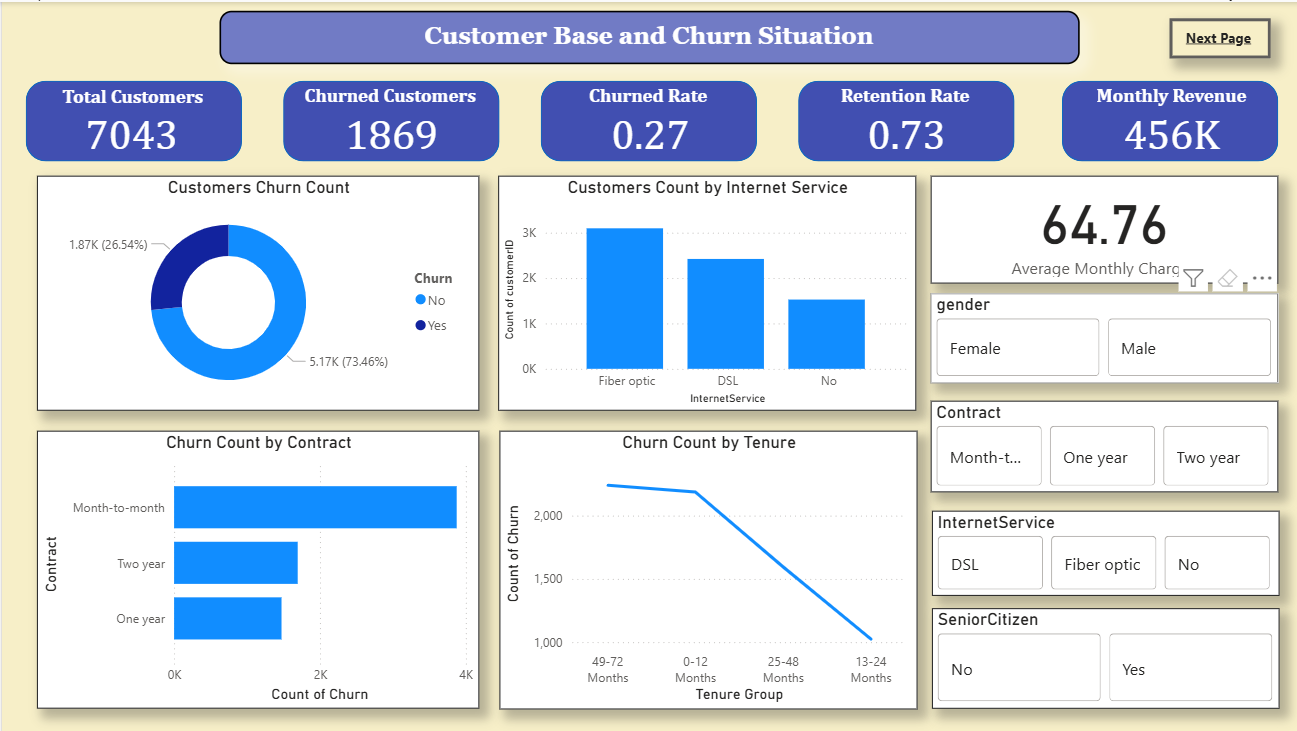

What the dashboard file says about the page in this screenshot:
{"tool":"powerbi","page":{"name":"Executive Overview","canvas":[1280,720],"ordinal":0},"visuals":[{"type":"textbox","box":[214.7,8.4,849.3,53.1],"z":0},{"type":"shape","box":[22.9,77.2,213.5,79.6],"z":1000},{"type":"shape","box":[532,77.2,213.5,79.6],"z":2000},{"type":"shape","box":[277.5,77.2,213.5,79.6],"z":3000},{"type":"shape","box":[786.6,77.2,213.5,79.6],"z":4000},{"type":"shape","box":[1047.2,77.2,213.5,79.6],"z":5000},{"type":"card","fields":{"Values":["Telco_Churn.Total Customers"]},"box":[42.2,101.3,172.5,55.5],"z":6000},{"type":"textbox","box":[33.8,77.2,191.8,31.4],"z":7000},{"type":"card","fields":{"Values":["Telco_Churn.Retention Rate"]},"box":[807.1,101.3,172.5,55.5],"z":8000},{"type":"card","fields":{"Values":["Telco_Churn.Churn Rate"]},"box":[553.8,101.3,172.5,55.5],"z":9000},{"type":"card","fields":{"Values":["Telco_Churn.Churned Customers"]},"box":[299.2,101.3,172.5,55.5],"z":10000},{"type":"card","fields":{"Values":["Telco_Churn.Monthly Revenue"]},"box":[1068.9,101.3,172.5,55.5],"z":11000},{"type":"textbox","box":[294.1,76.9,184.3,34.2],"z":12000},{"type":"textbox","box":[1063,76.9,184.3,34.2],"z":13000},{"type":"textbox","box":[800.6,76.9,184.3,34.2],"z":14000},{"type":"textbox","box":[548,76.9,184.3,34.2],"z":15000},{"type":"donutChart","title":"Customers Churn Count","fields":{"Y":["CountNonNull(Telco_Churn.Churn)"],"Category":["Telco_Churn.Churn"]},"box":[34.2,172.1,436.9,231.9],"z":16000},{"type":"barChart","title":"Churn Count by Contract","fields":{"Y":["CountNonNull(Telco_Churn.Churn)"],"Category":["Telco_Churn.Contract"]},"box":[34.2,423.5,436.9,274.6],"z":17000},{"type":"clusteredColumnChart","title":"Customers Count by Internet Service","fields":{"Category":["Telco_Churn.InternetService"],"Y":["CountNonNull(Telco_Churn.customerID)"]},"box":[490.6,172.1,412.5,231.9],"z":18000},{"type":"lineChart","title":"Churn Count by Tenure","fields":{"Category":["Telco_Churn.Tenure Group"],"Y":["CountNonNull(Telco_Churn.Churn)"]},"box":[491,423,413,275],"z":19000},{"type":"card","fields":{"Values":["Telco_Churn.Average Monthly Charges"]},"box":[917.8,172.1,342.9,106.2],"z":20000},{"type":"advancedSlicerVisual","fields":{"Values":["Telco_Churn.gender"]},"box":[917.8,288,342.9,89.1],"z":21000},{"type":"advancedSlicerVisual","fields":{"Values":["Telco_Churn.Contract"]},"box":[917.8,394.2,342.9,90.3],"z":22000},{"type":"advancedSlicerVisual","fields":{"Values":["Telco_Churn.InternetService"]},"box":[919,502.8,342.9,84.2],"z":23000},{"type":"advancedSlicerVisual","fields":{"Values":["Telco_Churn.SeniorCitizen"]},"box":[919,599.2,342.9,98.9],"z":24000},{"type":"actionButton","box":[1153.4,15.7,100.1,39.8],"z":24001},{"type":"textbox","box":[1164.2,21.6,79.5,28.4],"z":24002}]}

Visuals, with their boxes in screenshot pixels (x1, y1, x2, y2), scaled from the page's 1280x720 canvas onto the 1297x731 screenshot:
textbox: detection(218, 9, 1078, 62)
shape: detection(23, 78, 240, 159)
shape: detection(539, 78, 755, 159)
shape: detection(281, 78, 498, 159)
shape: detection(797, 78, 1013, 159)
shape: detection(1061, 78, 1277, 159)
card - Telco_Churn.Total Customers: detection(43, 103, 218, 159)
textbox: detection(34, 78, 229, 110)
card - Telco_Churn.Retention Rate: detection(818, 103, 993, 159)
card - Telco_Churn.Churn Rate: detection(561, 103, 736, 159)
card - Telco_Churn.Churned Customers: detection(303, 103, 478, 159)
card - Telco_Churn.Monthly Revenue: detection(1083, 103, 1258, 159)
textbox: detection(298, 78, 485, 113)
textbox: detection(1077, 78, 1264, 113)
textbox: detection(811, 78, 998, 113)
textbox: detection(555, 78, 742, 113)
"Customers Churn Count" donutChart: detection(35, 175, 477, 410)
"Churn Count by Contract" barChart: detection(35, 430, 477, 709)
"Customers Count by Internet Service" clusteredColumnChart: detection(497, 175, 915, 410)
"Churn Count by Tenure" lineChart: detection(498, 429, 916, 709)
card - Telco_Churn.Average Monthly Charges: detection(930, 175, 1277, 283)
advancedSlicerVisual - Telco_Churn.gender: detection(930, 292, 1277, 383)
advancedSlicerVisual - Telco_Churn.Contract: detection(930, 400, 1277, 492)
advancedSlicerVisual - Telco_Churn.InternetService: detection(931, 510, 1279, 596)
advancedSlicerVisual - Telco_Churn.SeniorCitizen: detection(931, 608, 1279, 709)
actionButton: detection(1169, 16, 1270, 56)
textbox: detection(1180, 22, 1260, 51)
